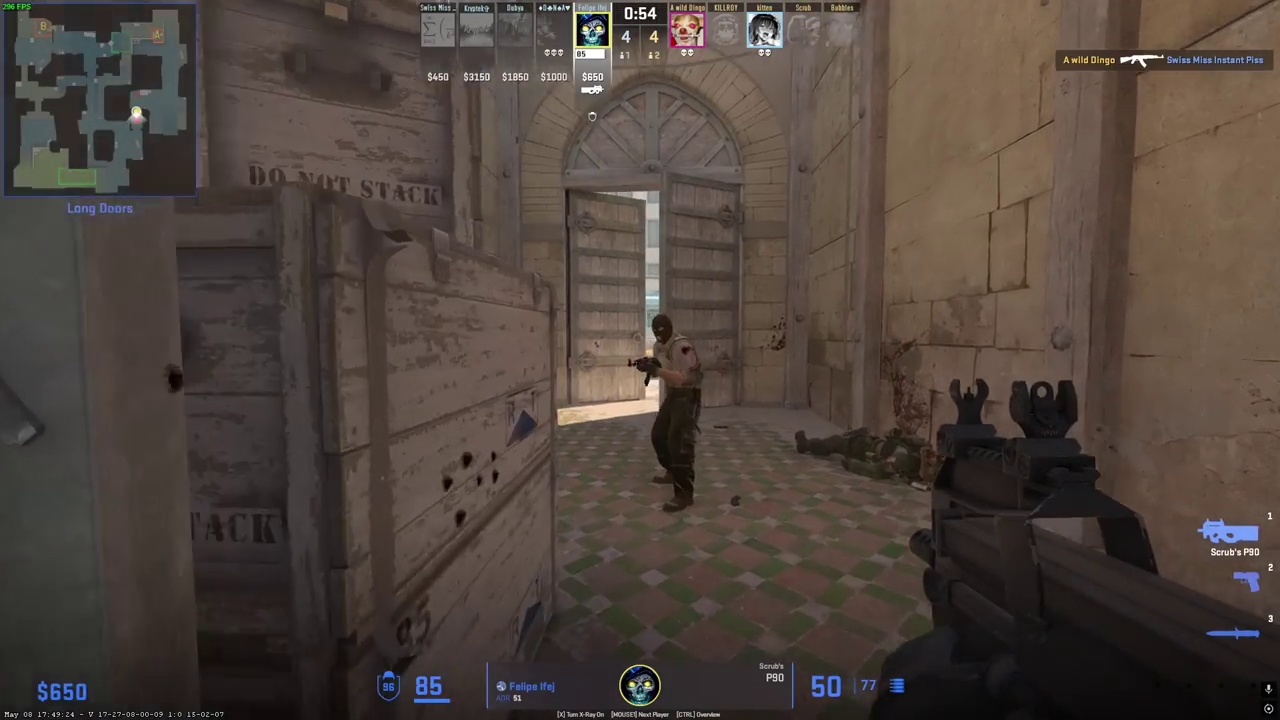Terrorist: (641, 314, 704, 512)
